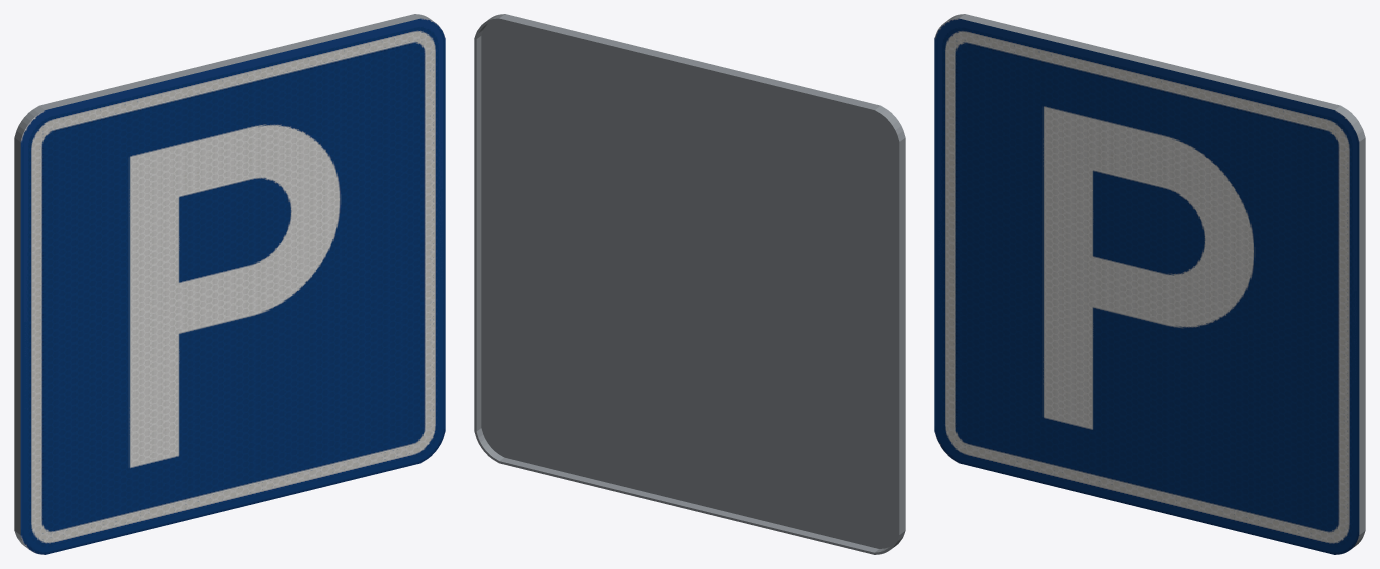
3 renders of one model, left to right at view 1: azimuth 30°, elevation 25°; view 2: azimuth 150°, elevation 25°; view 3: azimuth 330°, elevation 25°, orthographic.
Parts seen in each view (by area): view 1: cat_8704ae390b78a78e; view 2: cat_8704ae390b78a78e; view 3: cat_8704ae390b78a78e.
Part boxes in pixels (<box>): cat_8704ae390b78a78e: <box>14,14,445,554</box>; cat_8704ae390b78a78e: <box>474,14,905,554</box>; cat_8704ae390b78a78e: <box>934,14,1365,554</box>.
Size of the model in its own units: 0.6 by 0.015 by 0.6.
2 materials, 1 textured.
